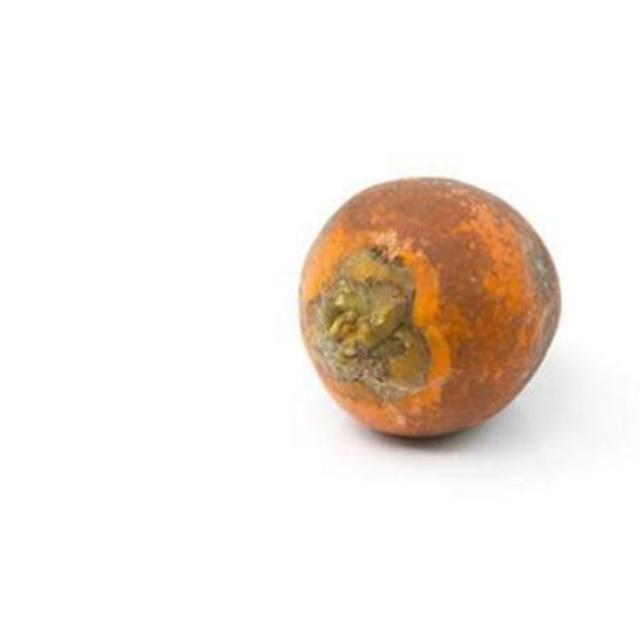good: (297, 178, 563, 441)
